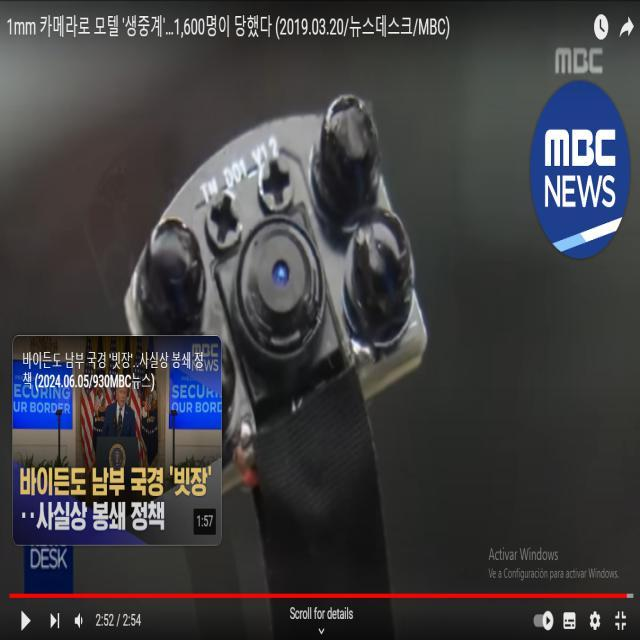hidden camera: (270, 258, 291, 288)
